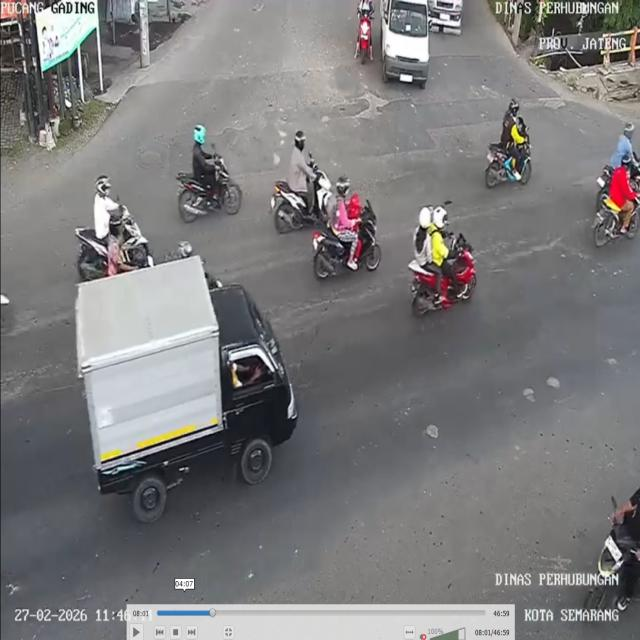motorcycle: (406, 249, 481, 315), (73, 217, 153, 269), (314, 225, 384, 282), (176, 168, 244, 218), (592, 522, 636, 586), (275, 177, 332, 224), (483, 140, 534, 190), (594, 200, 640, 245), (352, 16, 376, 61), (596, 162, 610, 194)
person: (100, 218, 131, 272), (286, 131, 312, 193), (191, 120, 217, 180), (610, 157, 638, 210), (414, 201, 434, 273), (609, 482, 640, 528), (431, 204, 453, 267), (95, 177, 118, 236), (615, 121, 640, 173), (329, 173, 349, 232), (501, 93, 521, 148), (347, 188, 362, 228), (357, 0, 375, 21)
rider_region: (407, 200, 480, 318), (311, 173, 385, 279), (582, 480, 640, 615), (176, 120, 246, 220), (272, 131, 333, 231), (76, 178, 150, 255), (483, 92, 536, 192), (592, 160, 640, 246), (598, 123, 640, 190), (352, 0, 380, 66)
